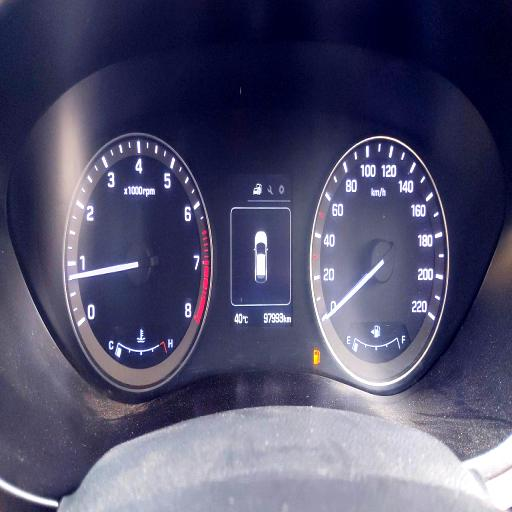tachometer: (61, 131, 214, 389)
